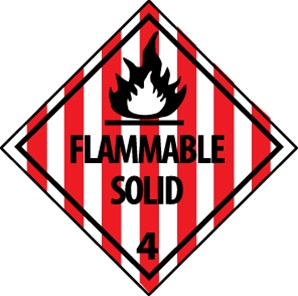FlammableSolid: (17, 15, 292, 274)
